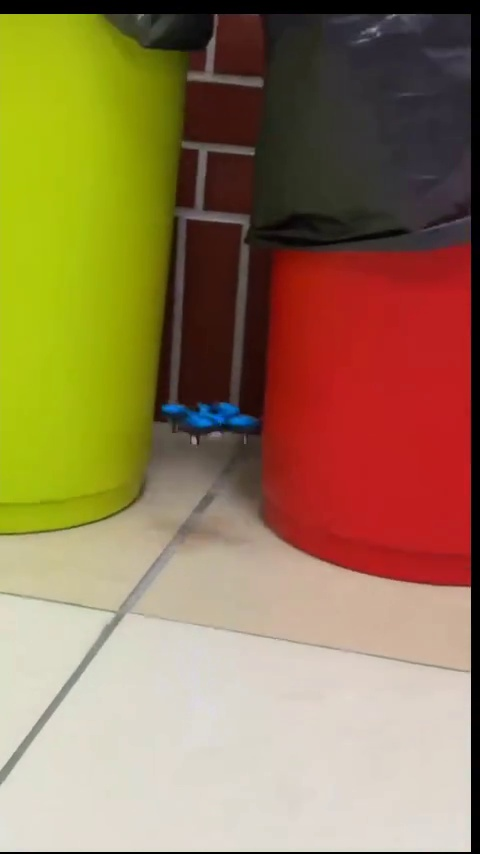drone: (163, 400, 259, 443)
